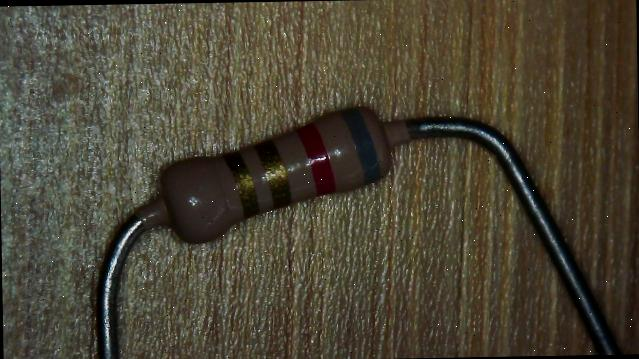gold: (256, 140, 290, 207), (224, 152, 258, 216)
grey: (342, 106, 381, 184)
red: (297, 122, 336, 196)
resistor: (113, 68, 431, 287)
